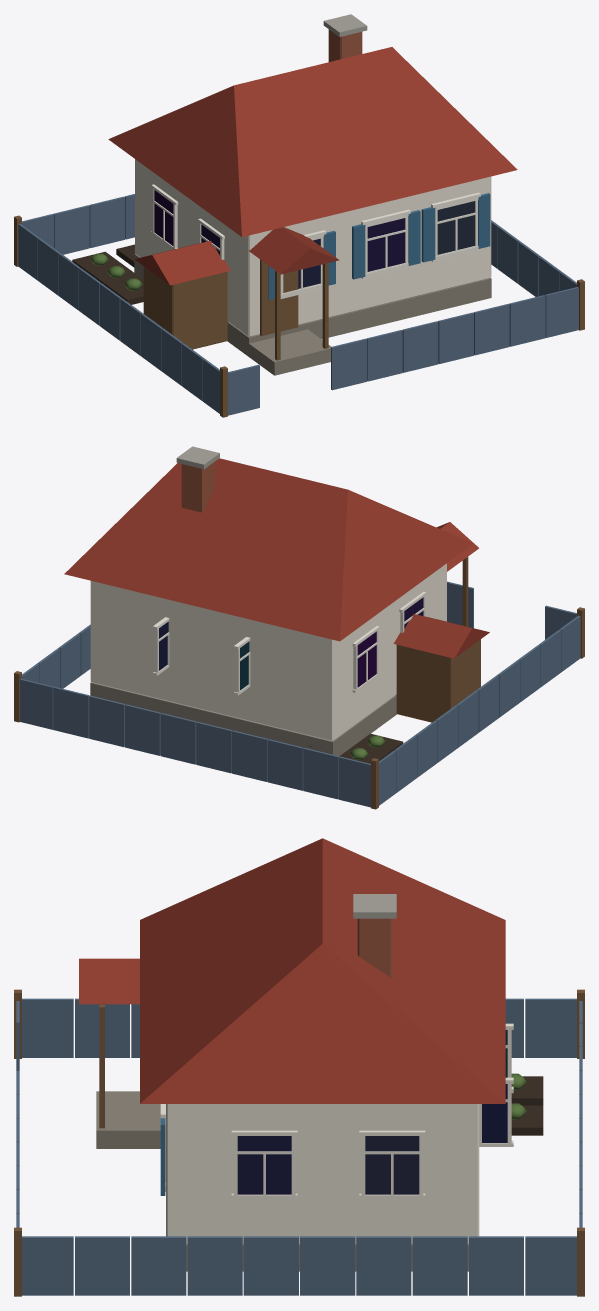
The model's file is house_a.glb.
The picture shows the model from 3 angles, top to bottom: view 1: azimuth 30°, elevation 25°; view 2: azimuth 150°, elevation 25°; view 3: azimuth 270°, elevation 25°; orthographic projection. The views are drawn at different scales.
Visible parts, largest first — view 1: house_a; view 2: house_a; view 3: house_a.
Boxes of the visible parts, x1,y1,x2,y2 form: house_a: (14,14,584,417); house_a: (14,446,584,809); house_a: (14,838,584,1296).
Bounding box in the file's own units: 9.84 × 6.12 × 9.84.
